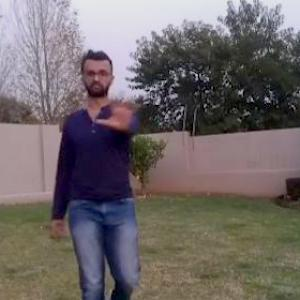follow_hand: (94, 81, 146, 128)
